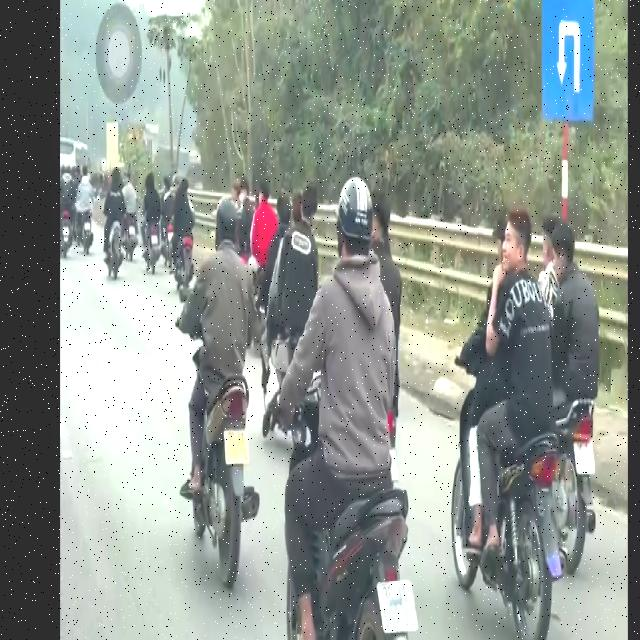helmet: (333, 166, 374, 286), (217, 188, 240, 282)
